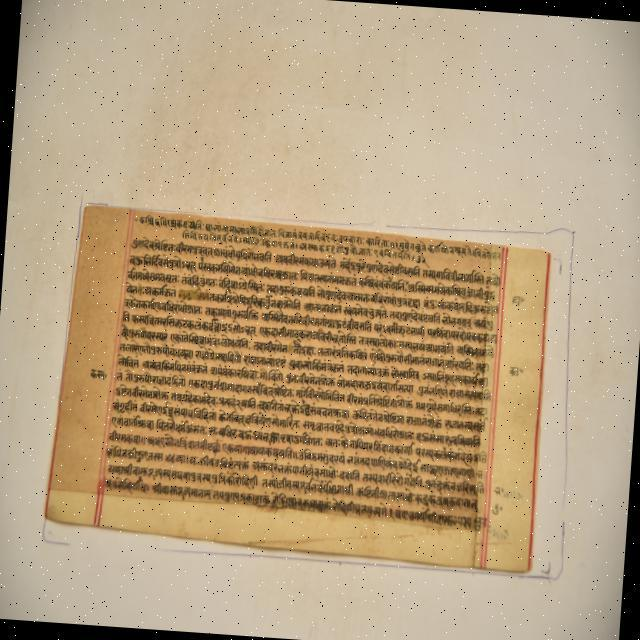text_paragraph: (42, 205, 549, 575)
